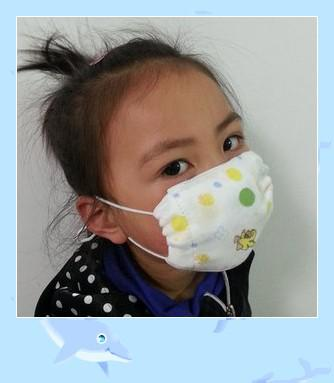OK: (129, 115, 272, 263)
